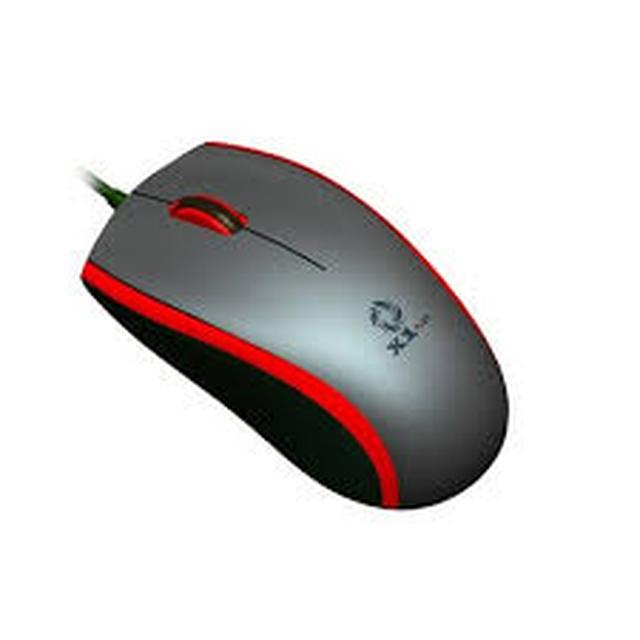mouse: (48, 112, 536, 497)
